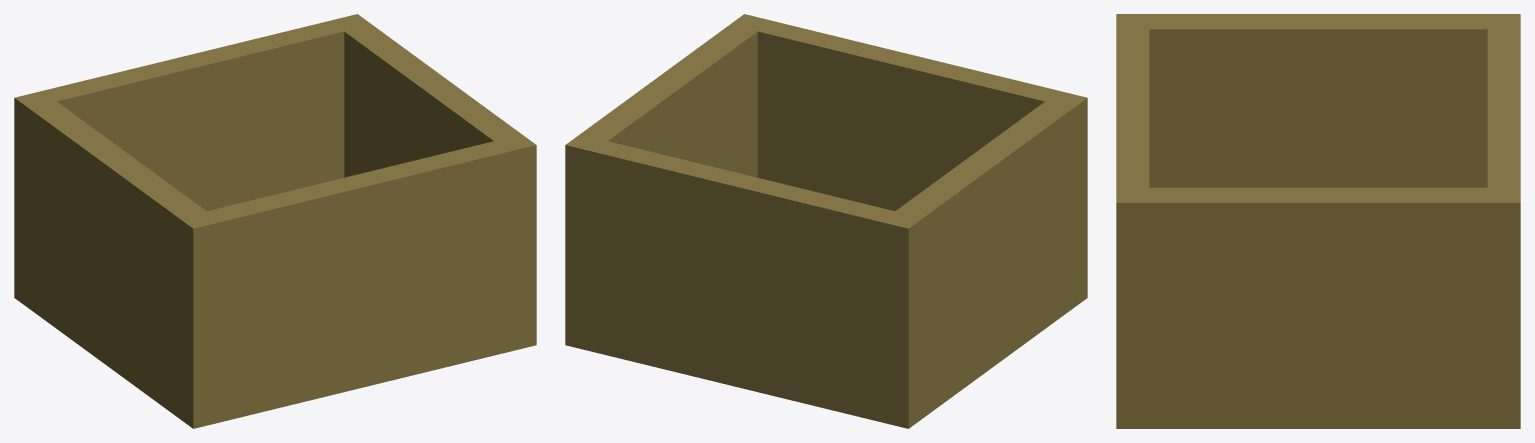
Rendered from quaternius-cube-world-cart.glb.
The picture shows the model from 3 angles, left to right: view 1: azimuth 30°, elevation 25°; view 2: azimuth 150°, elevation 25°; view 3: azimuth 270°, elevation 25°; orthographic projection. The views are drawn at different scales.
Parts seen in each view (by area): view 1: Cart; view 2: Cart; view 3: Cart.
Boxes of the visible parts, <box> form: Cart: <box>14,14,536,428</box>; Cart: <box>565,14,1087,428</box>; Cart: <box>1116,14,1520,428</box>.
Size of the model in its own units: 1.96 by 1.09 by 1.77.
1 material, 1 textured.
